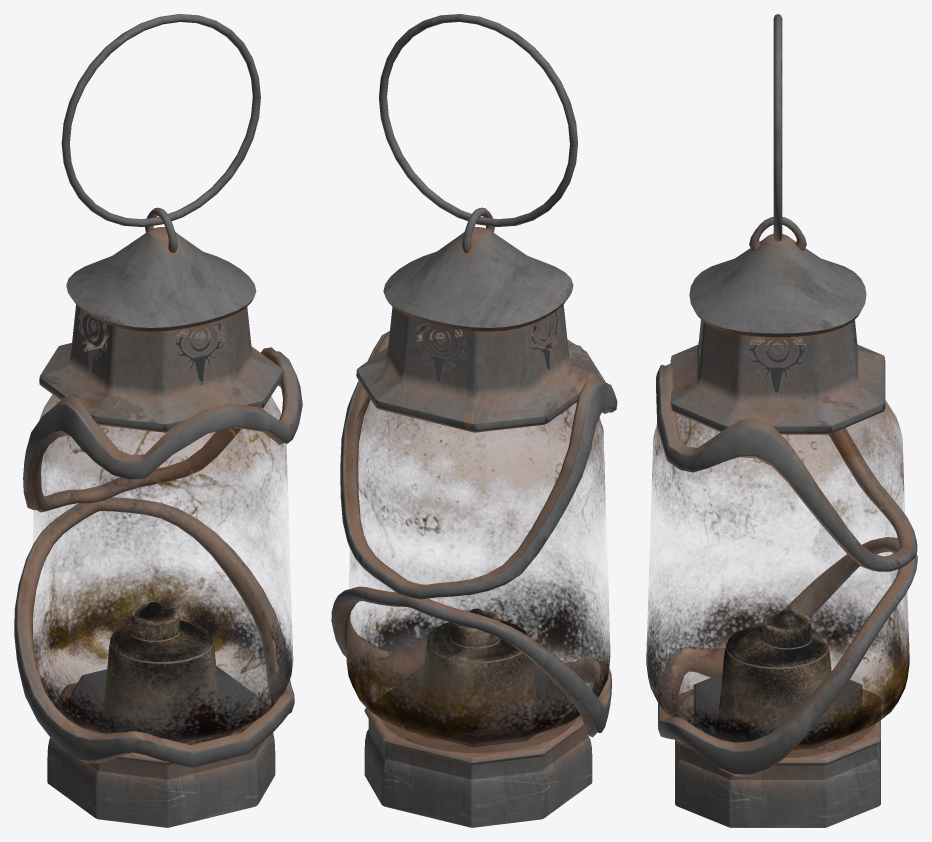
File: viking_lantern.glb
The picture shows the model from 3 angles, left to right: view 1: azimuth 30°, elevation 25°; view 2: azimuth 150°, elevation 25°; view 3: azimuth 270°, elevation 25°; orthographic projection.
Visible parts, largest first — view 1: pCube160; view 2: pCube160; view 3: pCube160.
Boxes of the visible parts, <box> form: pCube160: <box>14,14,302,827</box>; pCube160: <box>331,14,617,827</box>; pCube160: <box>646,14,917,827</box>.
Bounding box in the file's own units: 26.27 × 75.52 × 24.44.
Materials: 1 (1 with a texture image).
